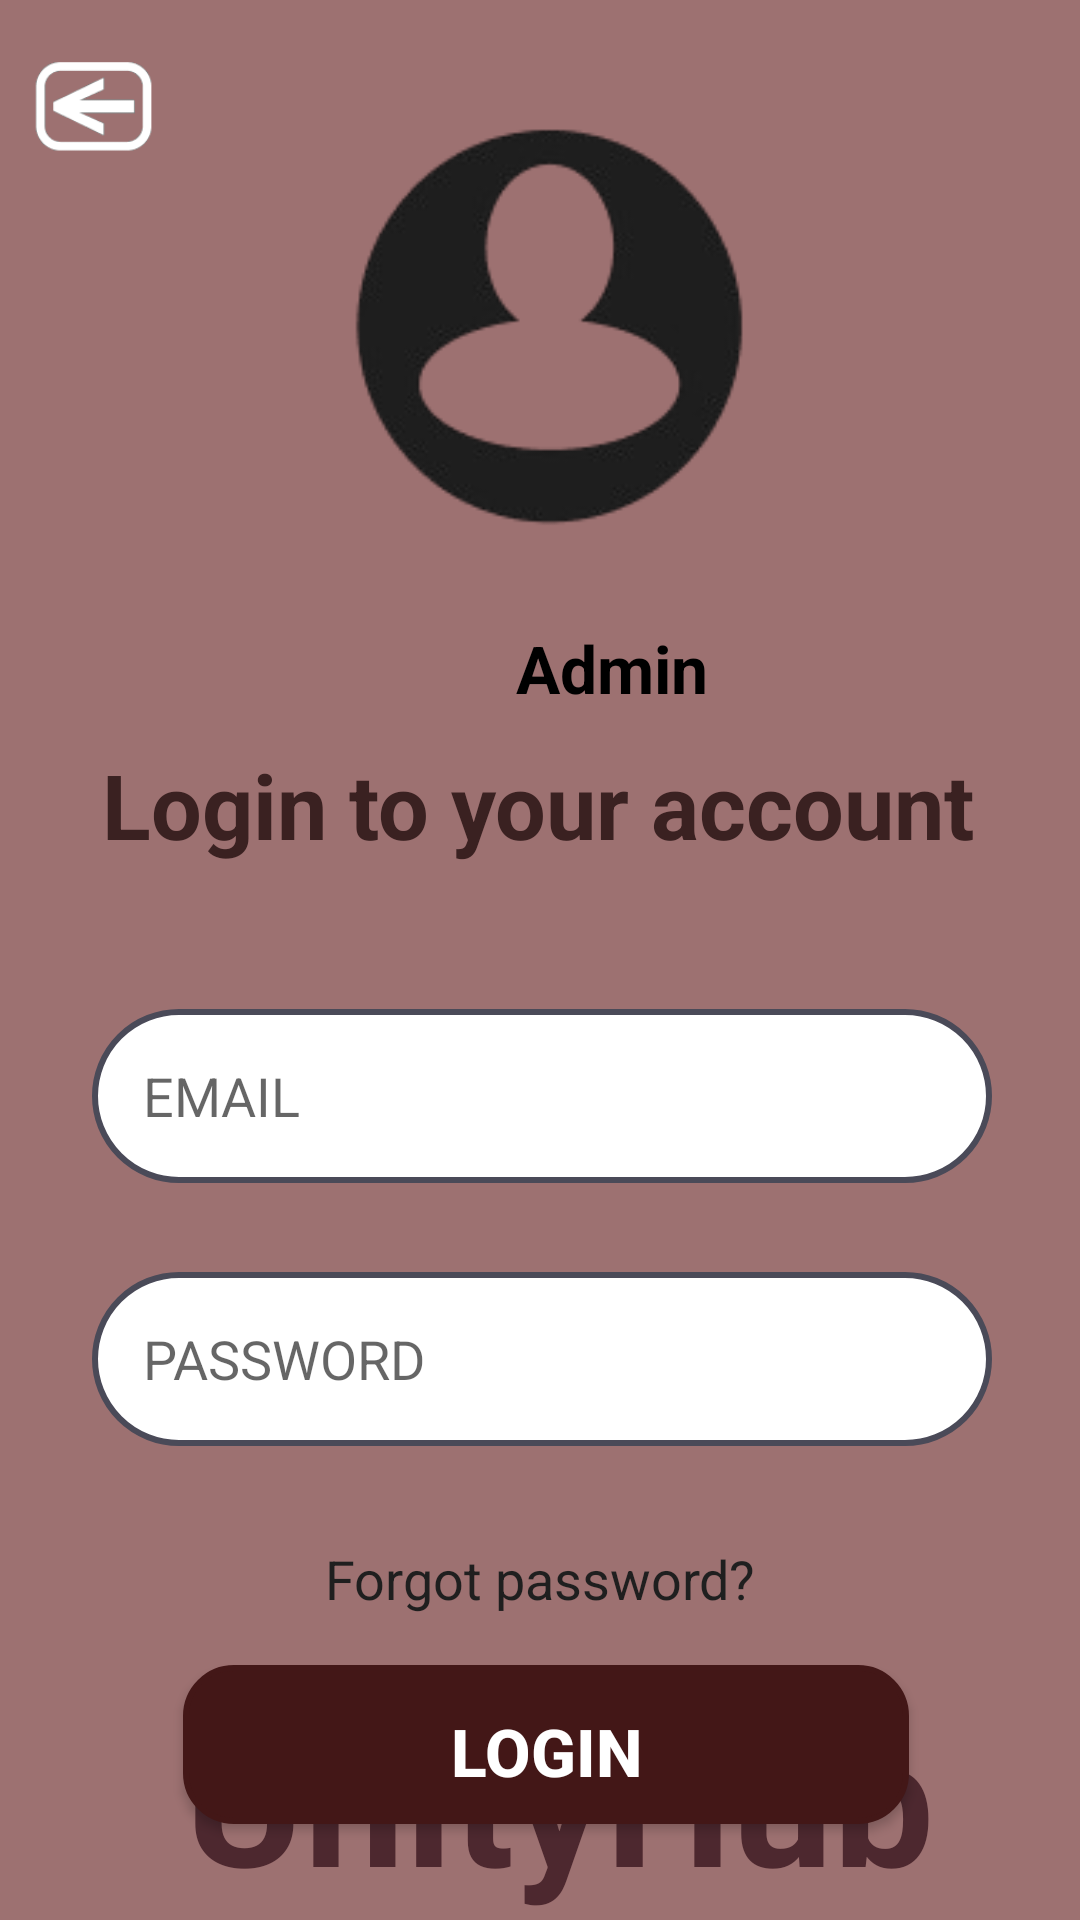

Icon bounding boxes for this 1080px×1920px phone screenshot, format (x1=x1, y1=y1, x2=x2, y2=y2):
Back: (x1=35, y1=62, x2=152, y2=151)
